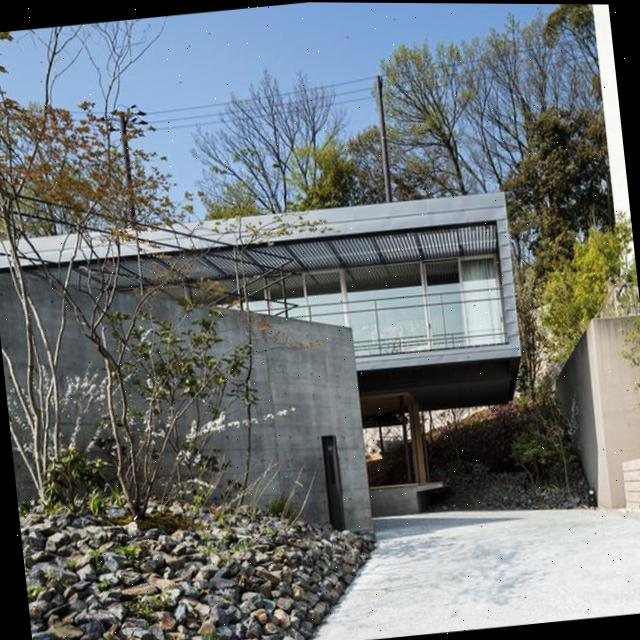building: (0, 179, 539, 570)
